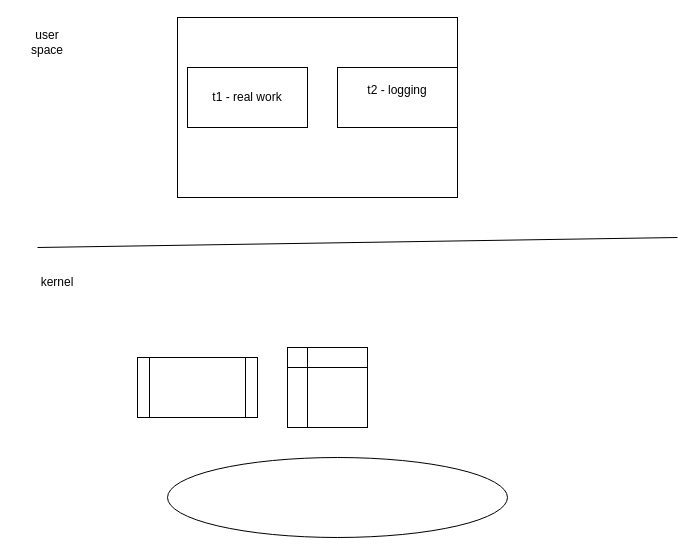
Some shapes in this 696 by 555 pixel diagram are drawn without their labels. Here are the shapes that lost their labels. From the top down, the centre of each, then its label:
At (x=197, y=387): "disk driver".
At (x=327, y=387): "queue".
